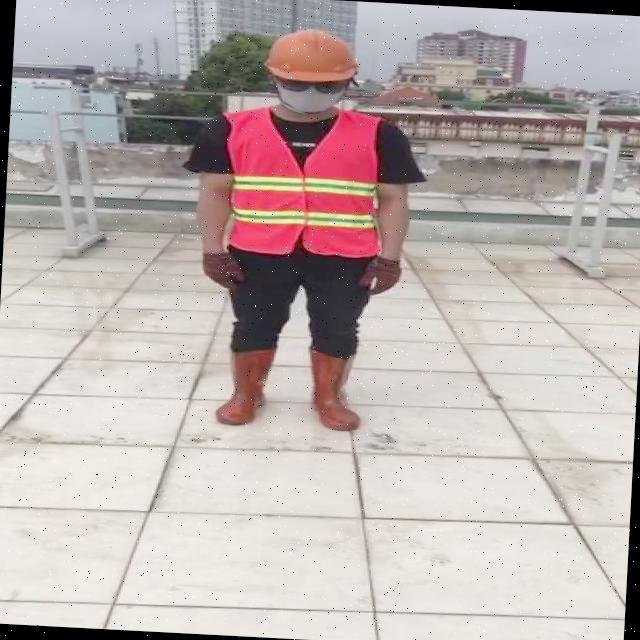boots: (214, 348, 278, 428), (306, 348, 366, 432)
helmet: (264, 25, 368, 88)
vest: (222, 105, 388, 258)
